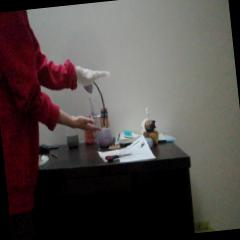gloved: (75, 63, 111, 84)
not-gloved: (73, 113, 102, 134)
